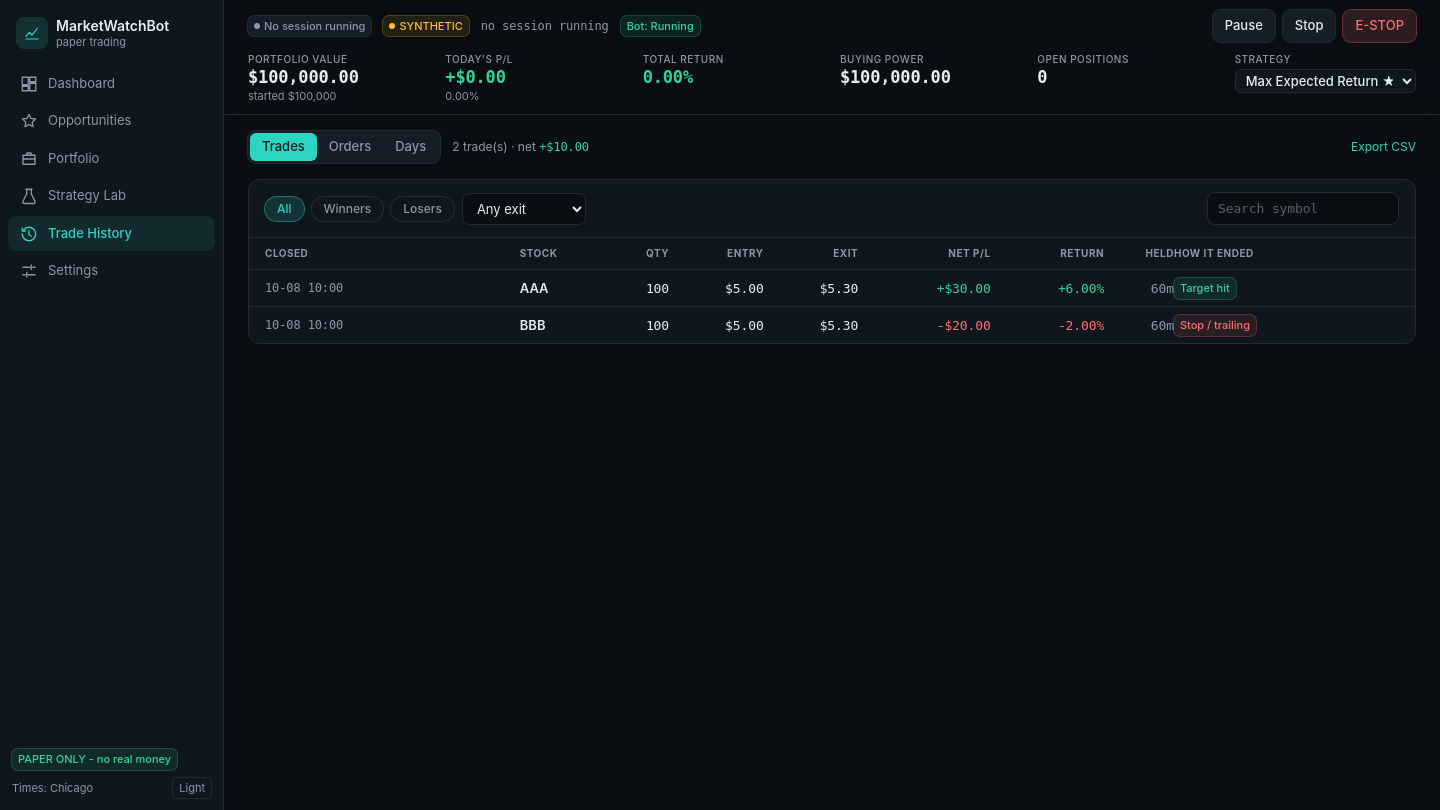
Test case: trade history and portfolio › filters trades and explains why one was bought and closed
Check: the text "Target hit" is shown, box x1=1174 y1=278 x2=1236 y2=298
Click the button "Losers" at point(423, 208), box x1=391 y1=196 x2=454 y2=220
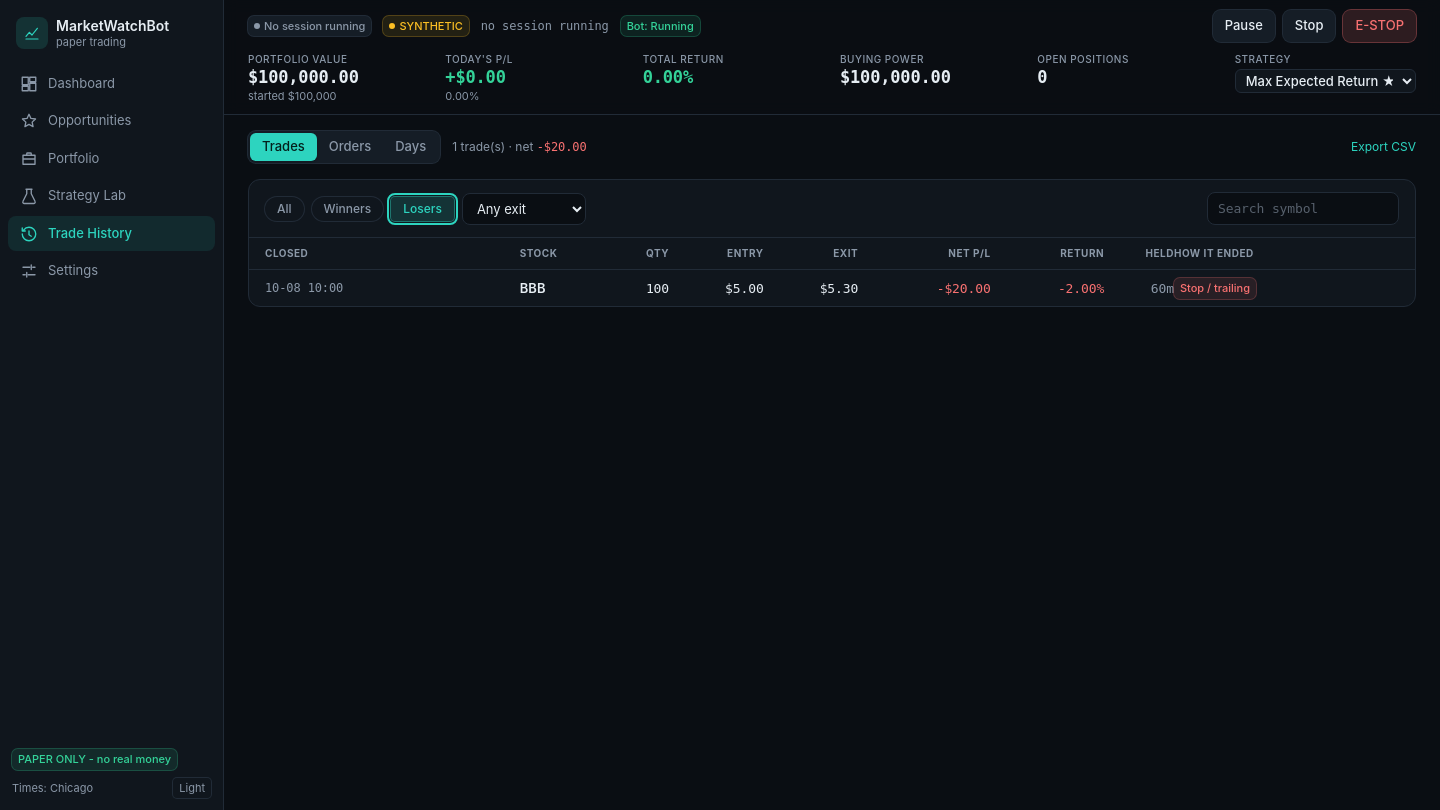
Check: the text "AAA" is gone
Click the button "All" at point(284, 208), box x1=265 y1=196 x2=304 y2=220
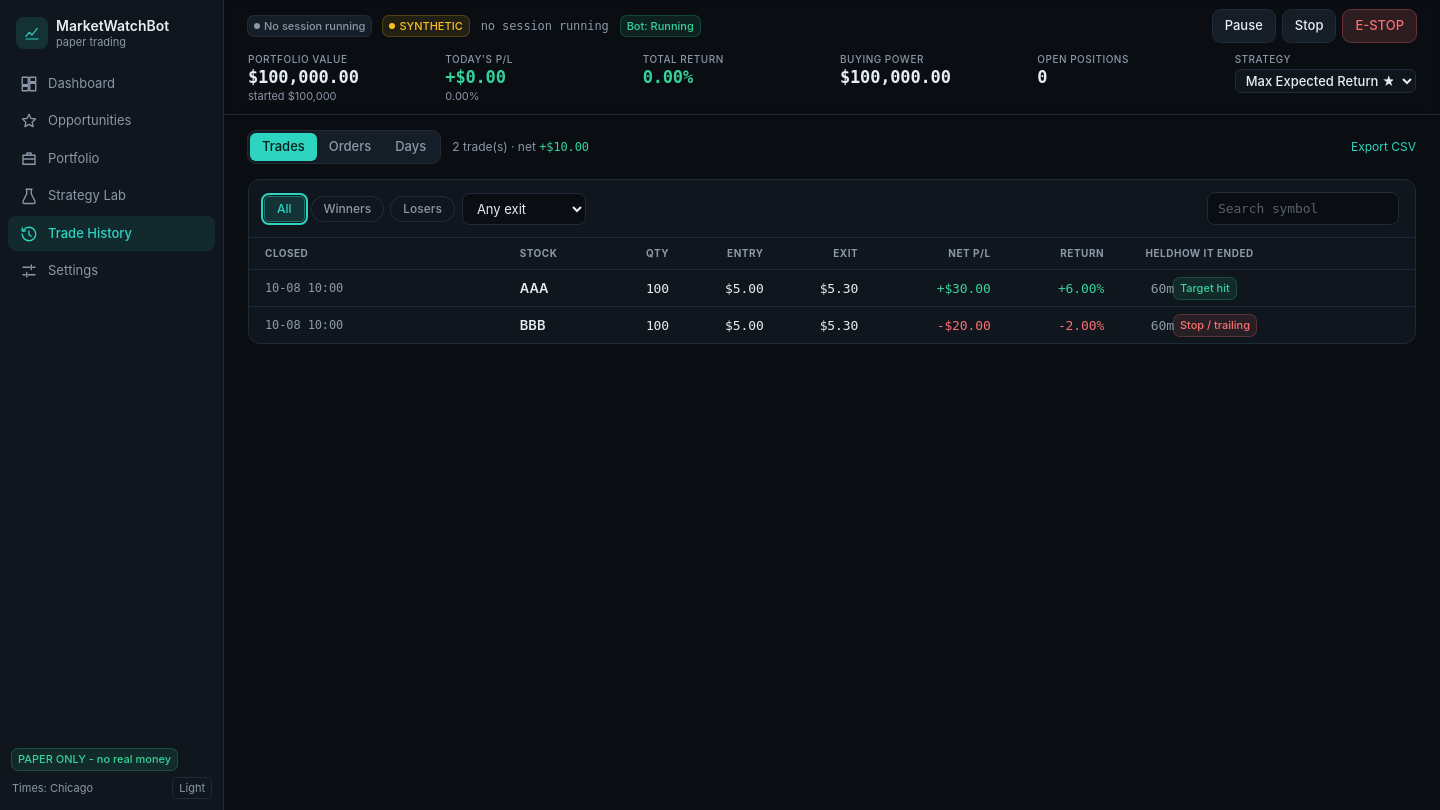
Click the row named "Explain AAA trade" at point(832, 288), box x1=249 y1=270 x2=1415 y2=307
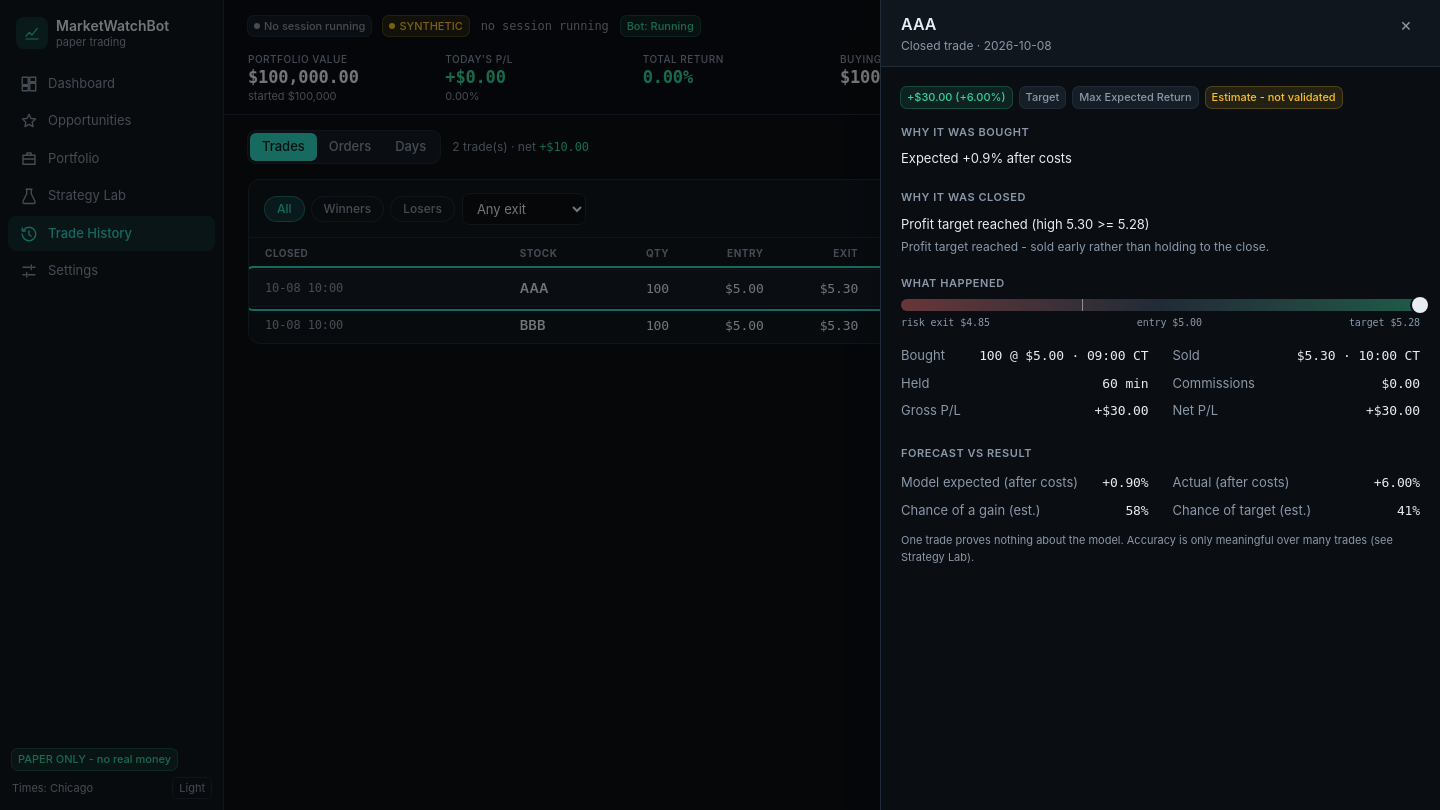
Check: the heading "Why it was closed" is shown, box x1=901 y1=190 x2=1026 y2=204
Check: the text "sold early rather than holding to the close" is shown, box x1=901 y1=239 x2=1269 y2=254
Check: the heading "Forecast vs result" is shown, box x1=901 y1=446 x2=1032 y2=460
